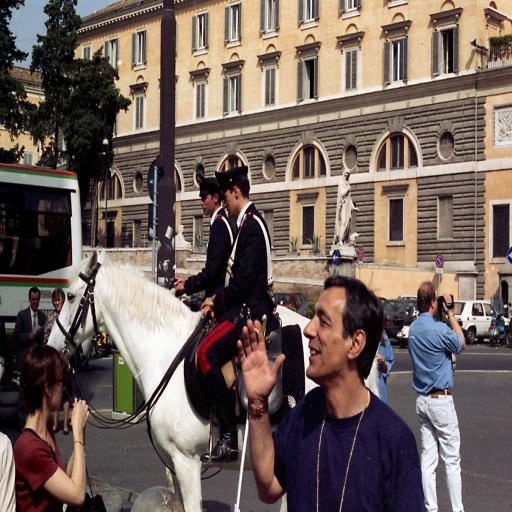horse: (46, 246, 382, 512)
